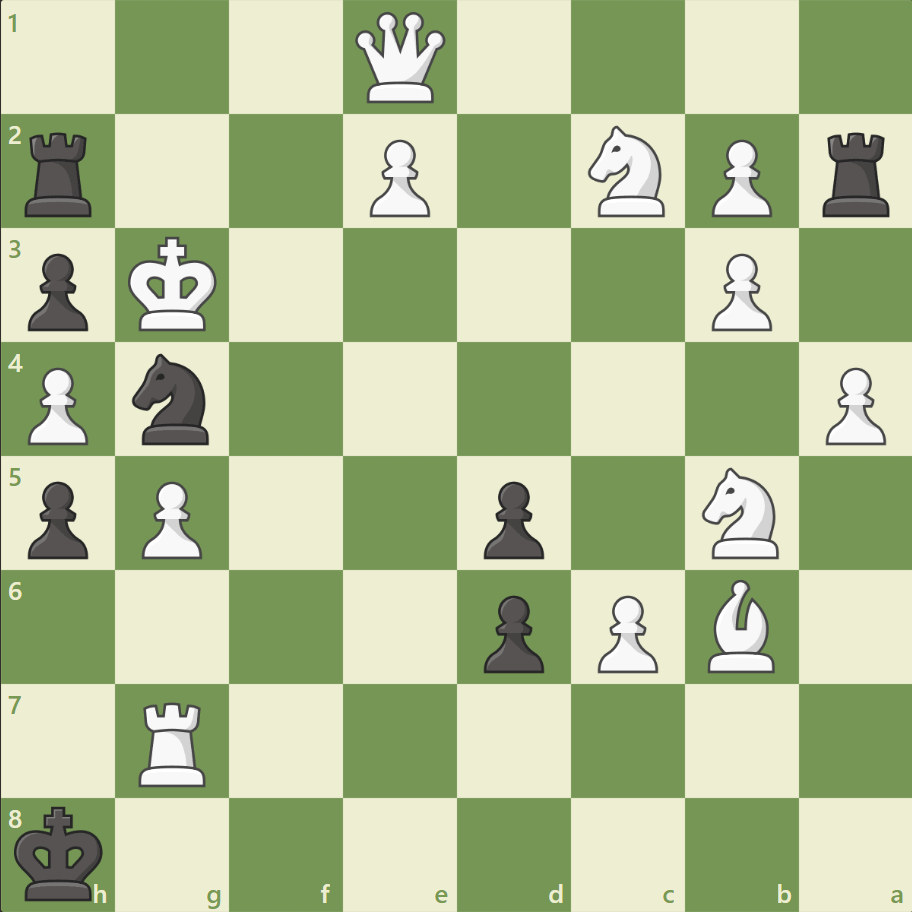B: (698, 574, 782, 676)
K: (124, 231, 224, 339)
N: (692, 461, 789, 564), (579, 121, 676, 223)
P: (133, 473, 208, 564), (20, 359, 95, 450), (701, 246, 776, 337), (701, 132, 776, 223), (588, 586, 662, 677), (815, 359, 889, 450), (361, 132, 435, 223)
Q: (351, 9, 450, 108)
R: (133, 693, 215, 790)
k: (11, 798, 111, 906)
n: (124, 348, 222, 450)
p: (474, 586, 549, 677), (474, 473, 549, 564), (20, 473, 95, 564), (20, 246, 95, 337)
r: (814, 125, 897, 222), (19, 125, 102, 222)
